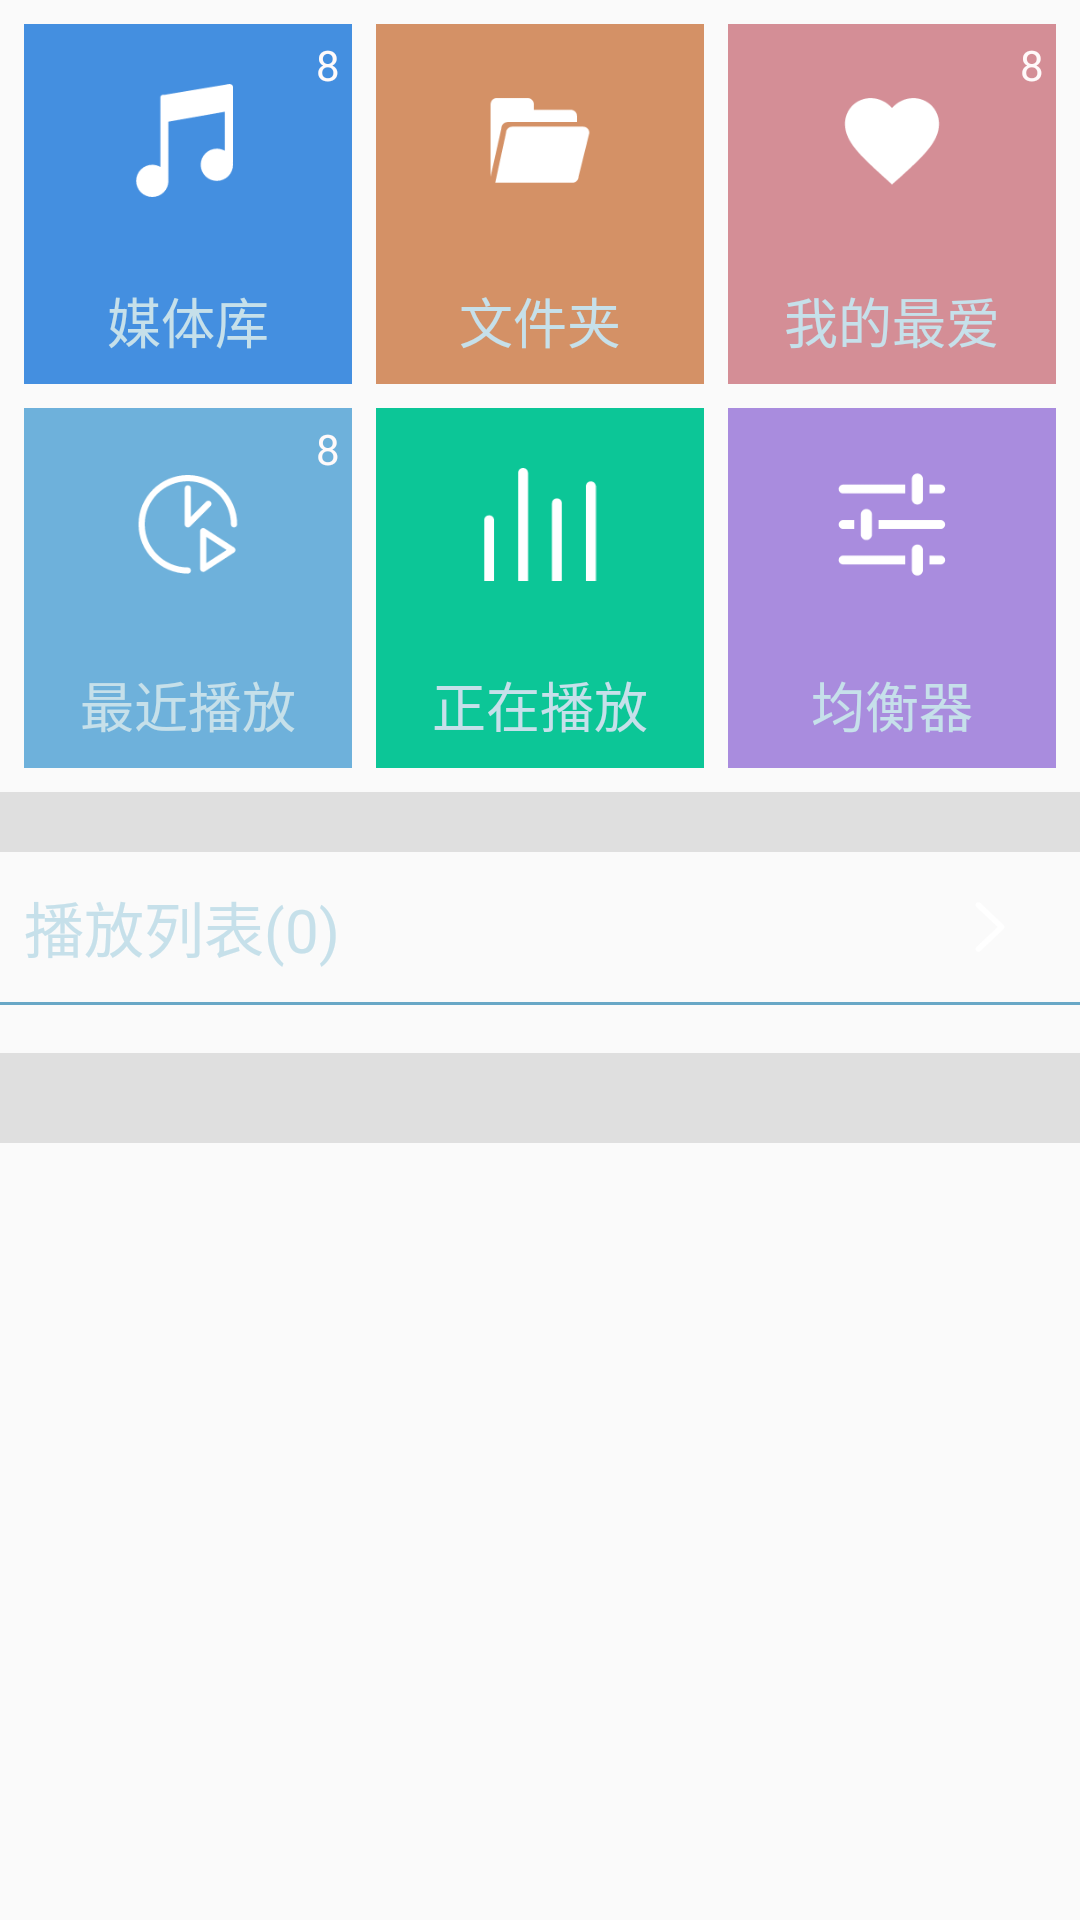

Icons on this 1080w x 1920h Android screen, each with its box as (x1, y1, x2, y2):
file: (490, 98, 590, 183)
playing: (484, 468, 597, 581)
